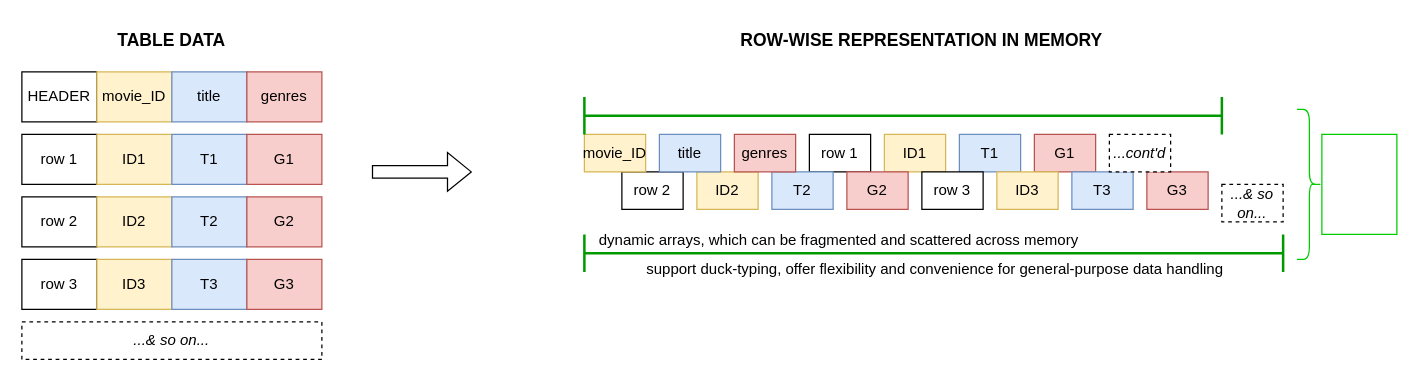
Image size: 1419x381. Some labels were removed from this diagram. The centre of each missing label's shape, as x and y in pixels:
"Data stored row-by-row in possibly non-contiguous blocks of memory" goes at point 902,115.
"In 2 lines to save space here" goes at point 1359,183.
